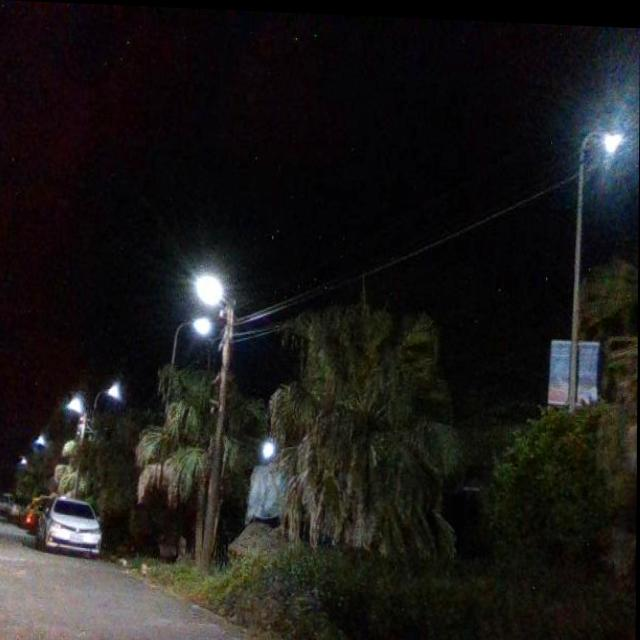pollute: (243, 450, 299, 525)
